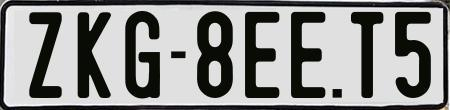5: (393, 9, 435, 95)
8: (197, 9, 239, 101)
E: (290, 11, 329, 100), (242, 10, 277, 99)
G: (124, 11, 159, 103)
K: (78, 10, 111, 100)
T: (349, 12, 384, 98)
Z: (28, 12, 66, 102)
